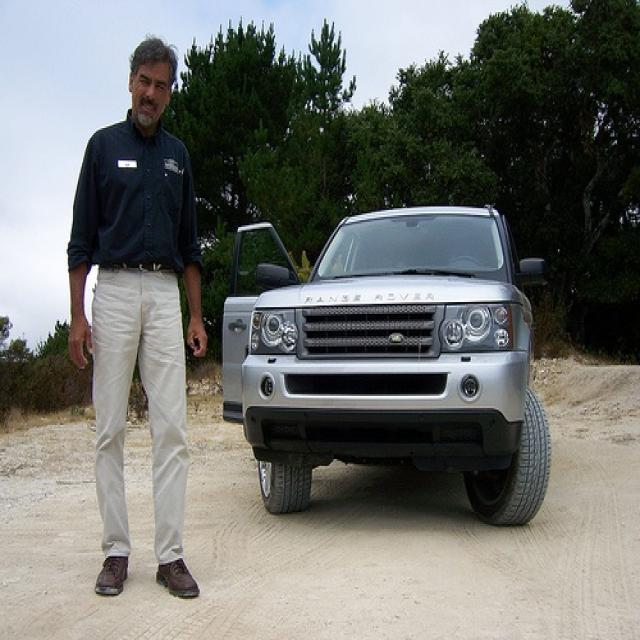car: (220, 201, 549, 514)
